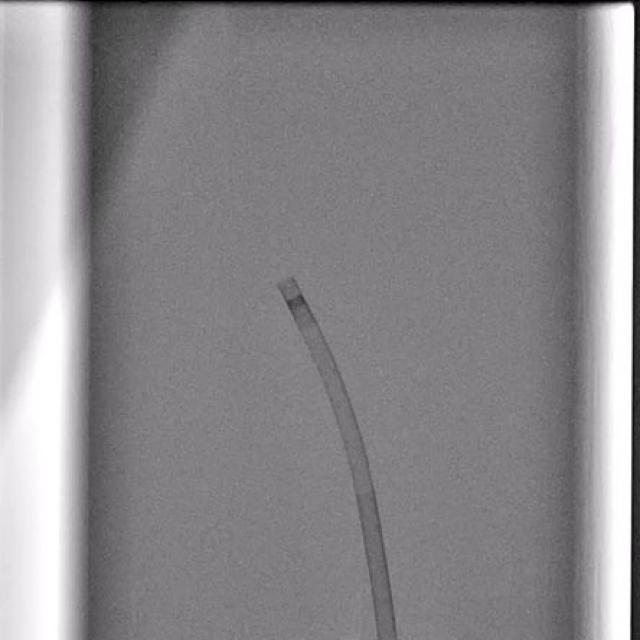bend: (353, 476, 376, 496)
entry: (376, 634, 398, 640)
marker: (284, 295, 309, 310)
tip: (278, 276, 292, 289)
